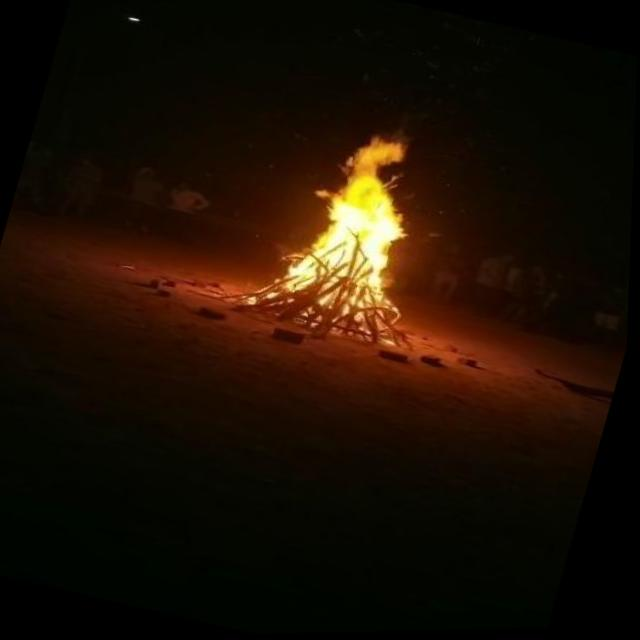fire: (248, 99, 476, 351)
